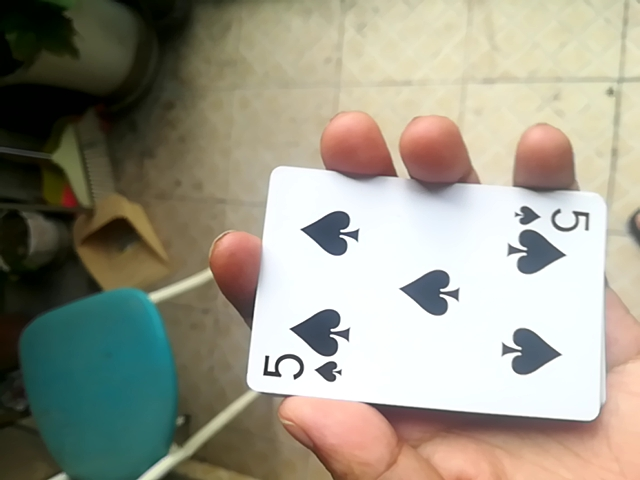ht 5: (249, 168, 613, 428)
